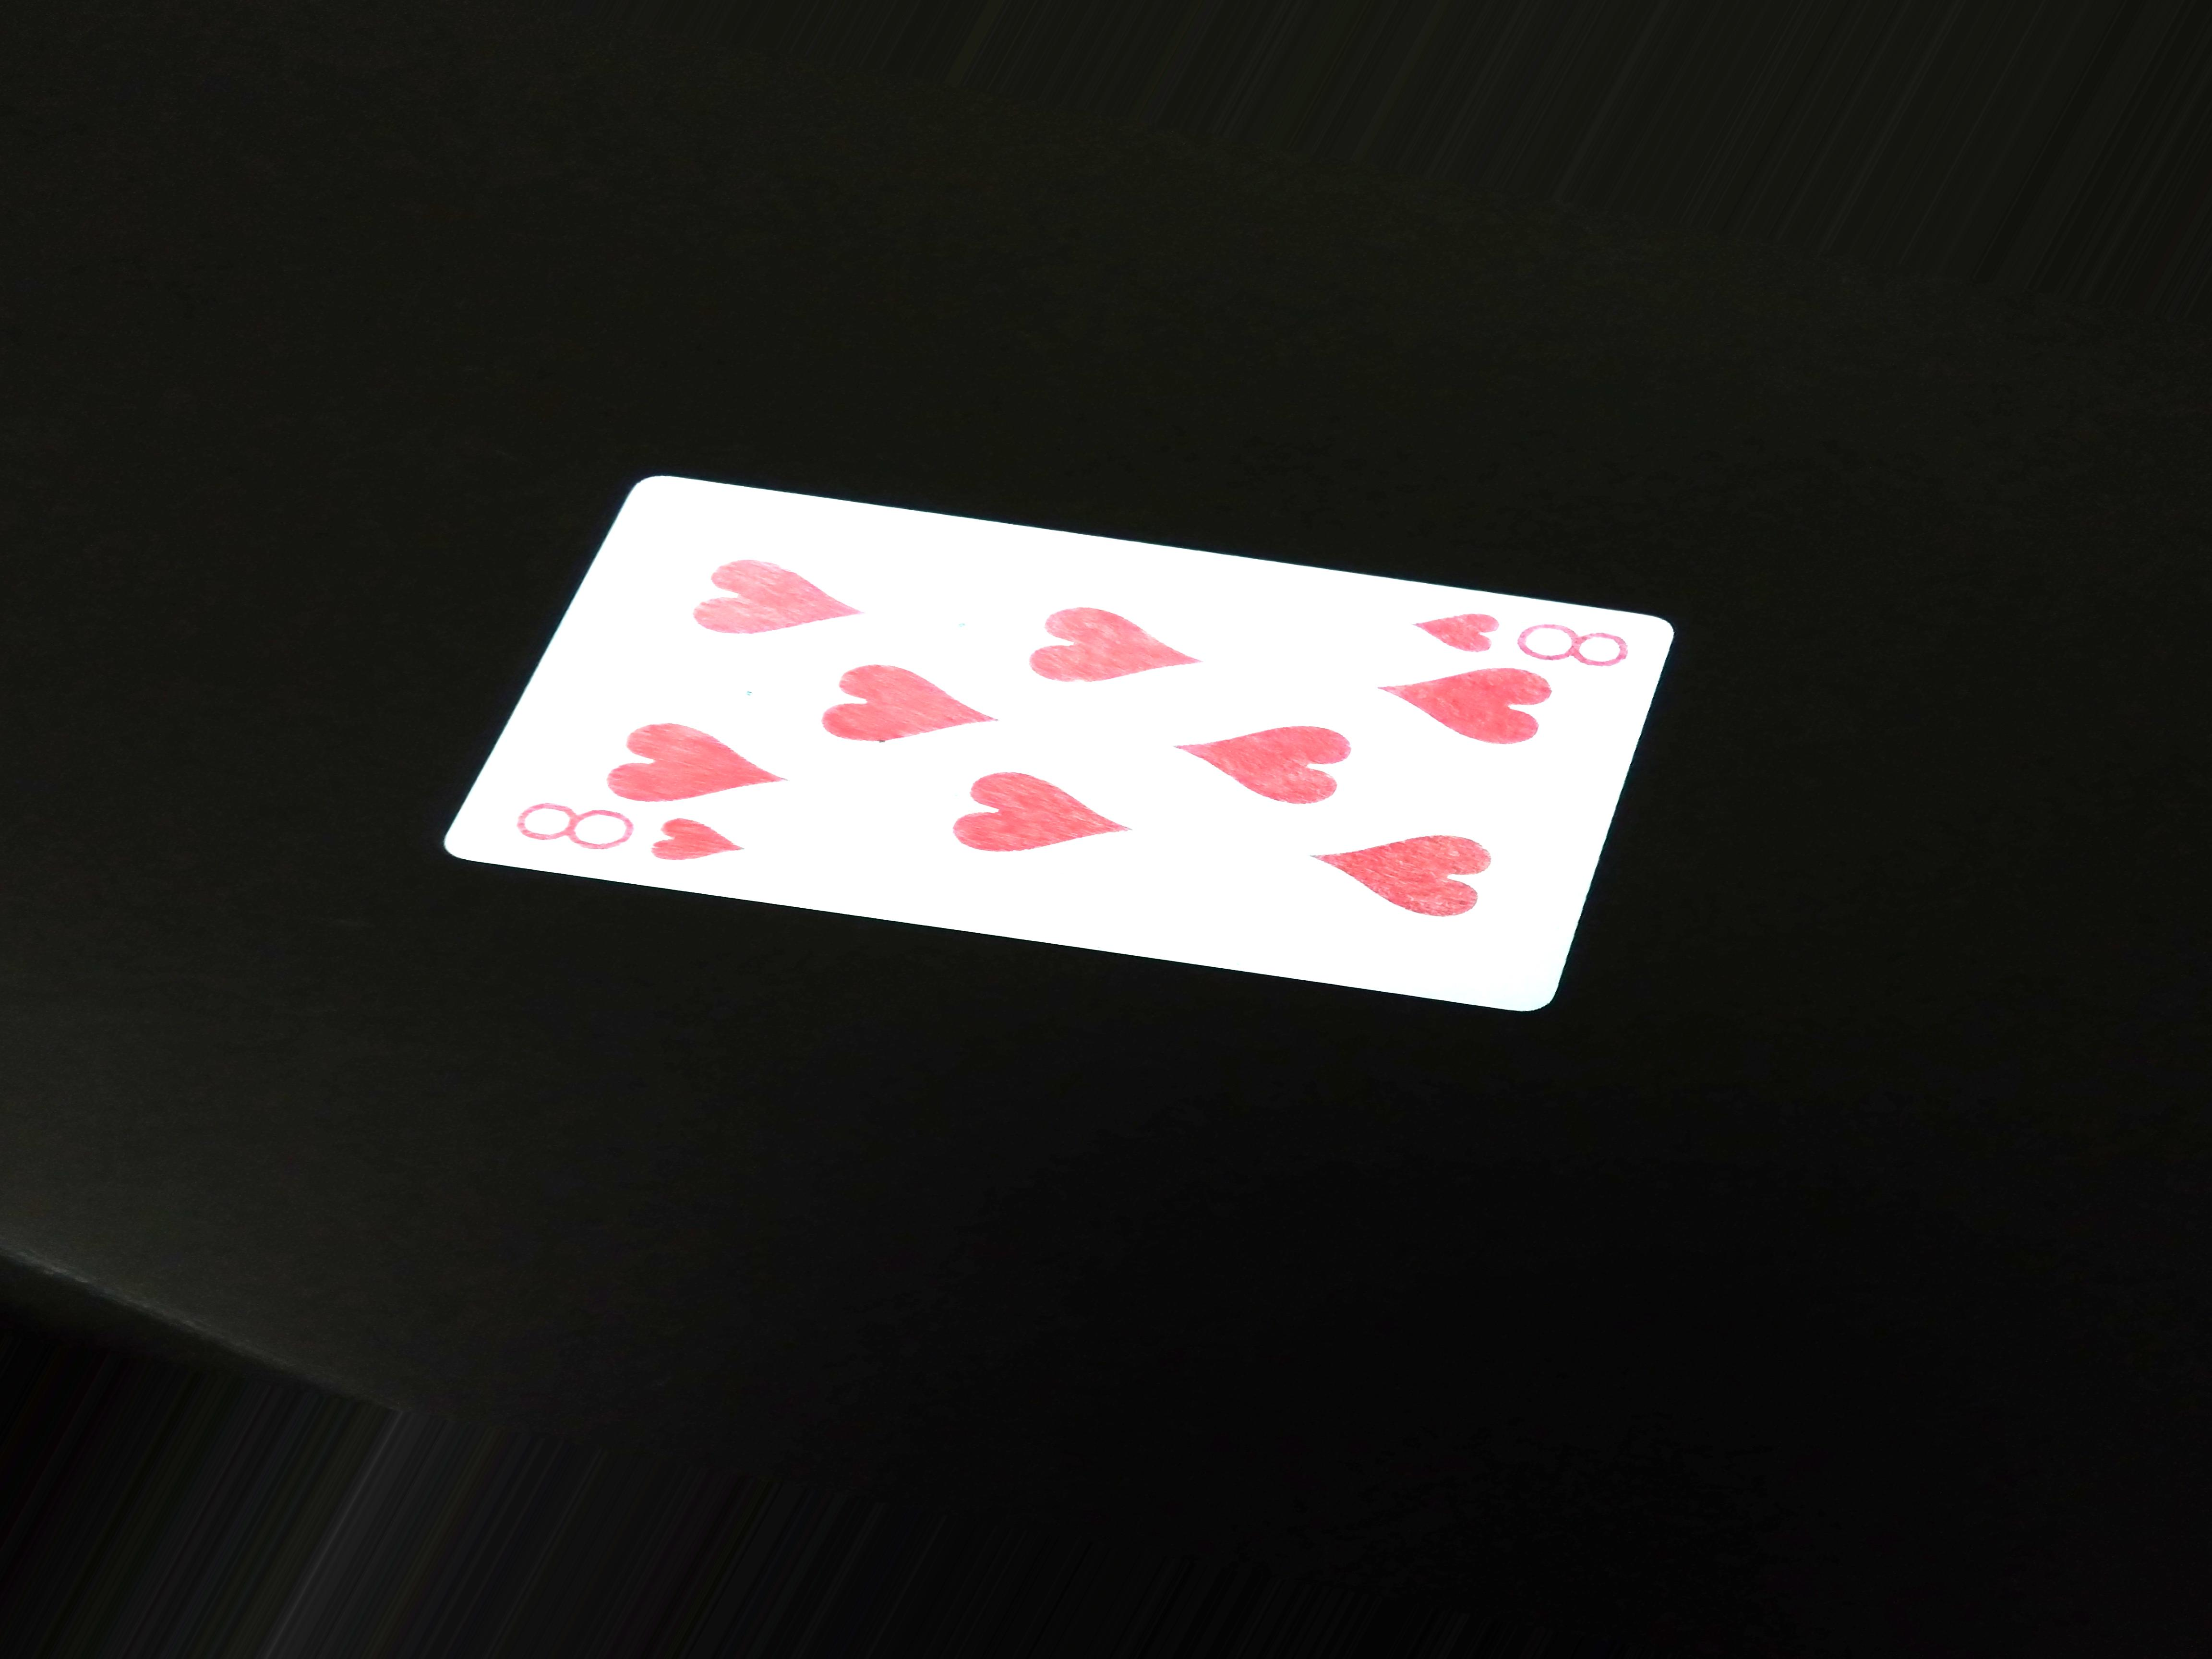8H: (491, 779, 756, 871)
